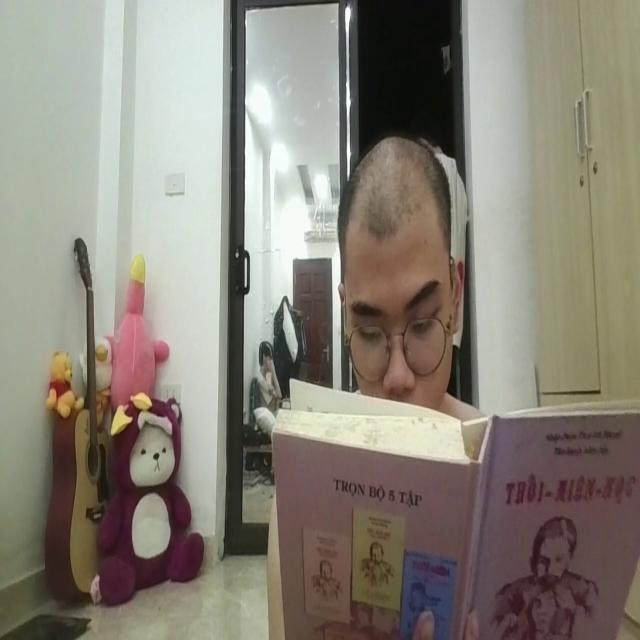book: (270, 360, 640, 640)
extra_person: (416, 119, 469, 350), (256, 330, 281, 417)
student: (336, 141, 467, 407)
